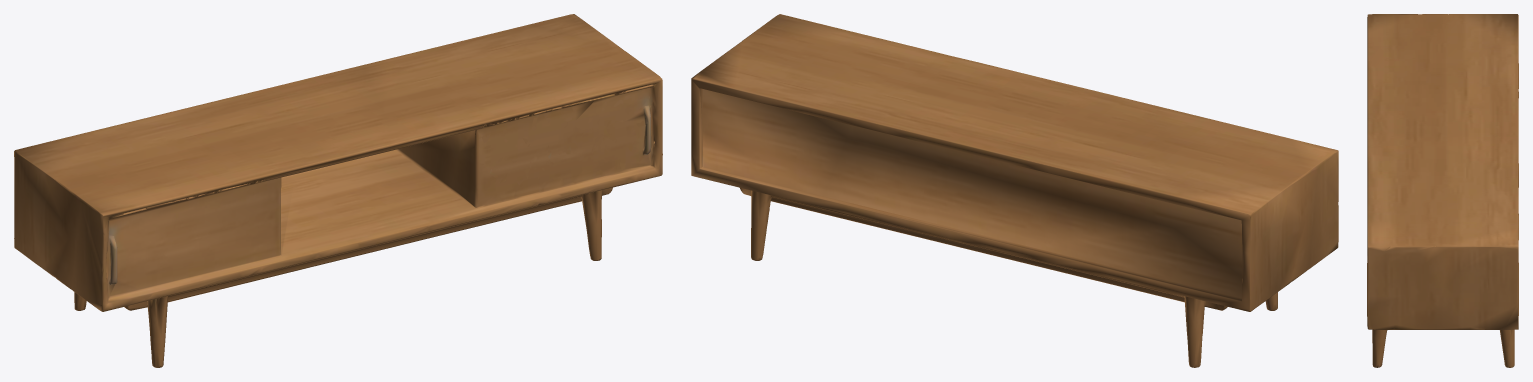
Rendered from fm_tv_stand_light.glb.
The picture shows the model from 3 angles, left to right: view 1: azimuth 30°, elevation 25°; view 2: azimuth 150°, elevation 25°; view 3: azimuth 270°, elevation 25°; orthographic projection. The views are drawn at different scales.
Visible parts, largest first — view 1: world; view 2: world; view 3: world.
Boxes of the visible parts, x1,y1,x2,y2 form: world: [14, 14, 662, 367]; world: [691, 14, 1338, 367]; world: [1367, 14, 1518, 367].
Size of the model in its own units: 1.5 by 0.4362 by 0.4133.
Materials: 1 (1 with a texture image).
